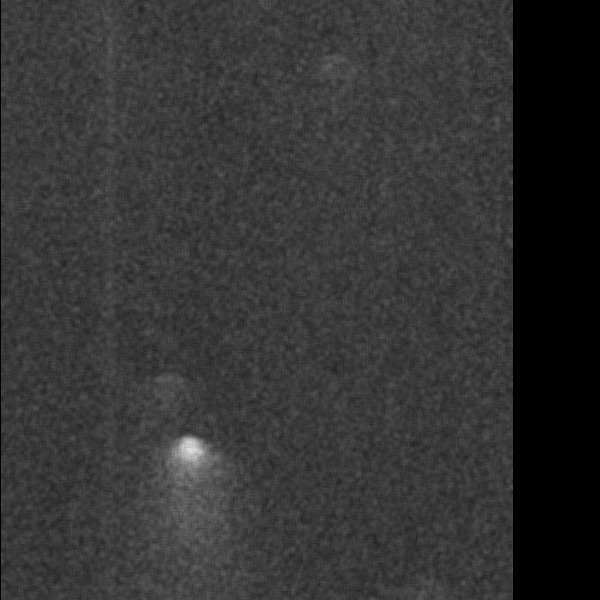spark: (159, 435, 221, 525)
